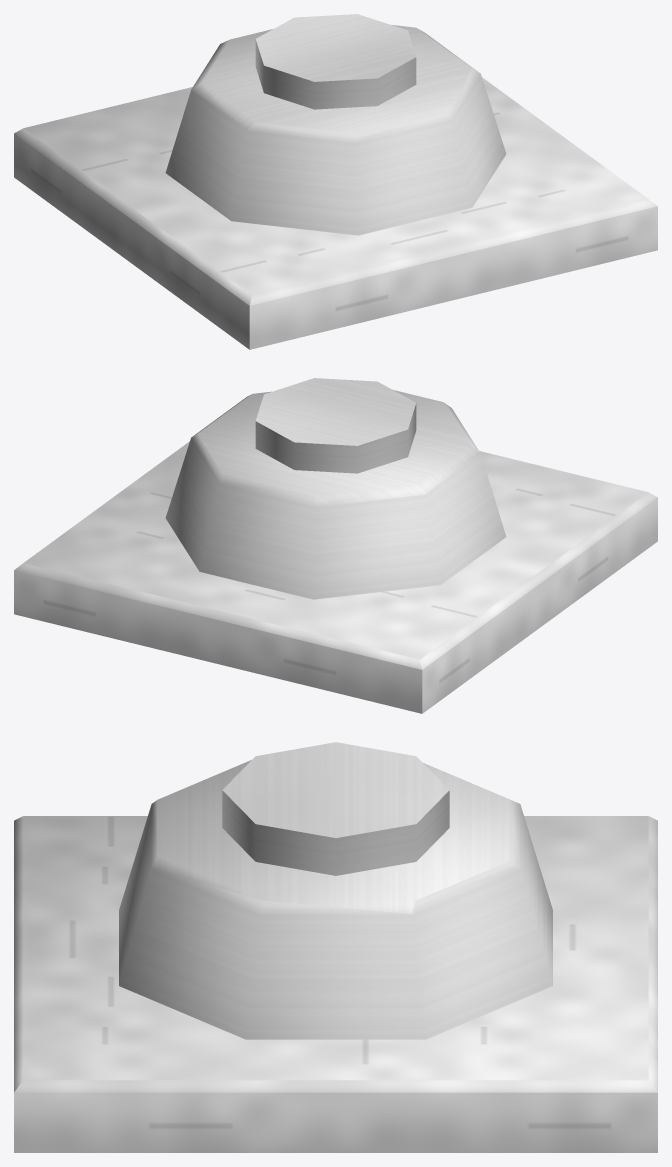
The model's file is turret_auto.obj.
The picture shows the model from 3 angles, top to bottom: view 1: azimuth 30°, elevation 25°; view 2: azimuth 150°, elevation 25°; view 3: azimuth 270°, elevation 25°; orthographic projection. The views are drawn at different scales.
Visible parts, largest first — view 1: rigid_shell_000, rigid_shell_001, rigid_shell_002; view 2: rigid_shell_000, rigid_shell_001, rigid_shell_002; view 3: rigid_shell_000, rigid_shell_001, rigid_shell_002.
Boxes of the visible parts, x1,y1,x2,y2 form: rigid_shell_000: [14, 77, 657, 349]; rigid_shell_001: [165, 25, 506, 235]; rigid_shell_002: [255, 14, 416, 109]; rigid_shell_000: [14, 441, 657, 713]; rigid_shell_001: [165, 390, 506, 599]; rigid_shell_002: [255, 378, 416, 473]; rigid_shell_000: [14, 816, 657, 1152]; rigid_shell_001: [119, 760, 552, 1039]; rigid_shell_002: [222, 742, 449, 875].
Size of the model in its own units: 1.7 by 0.66 by 1.7.
